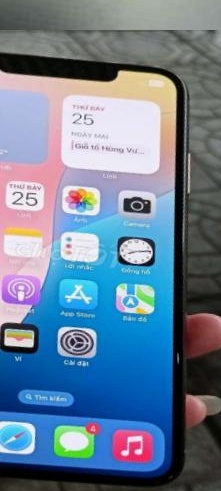scratch: (161, 344, 195, 375), (154, 466, 195, 491)
